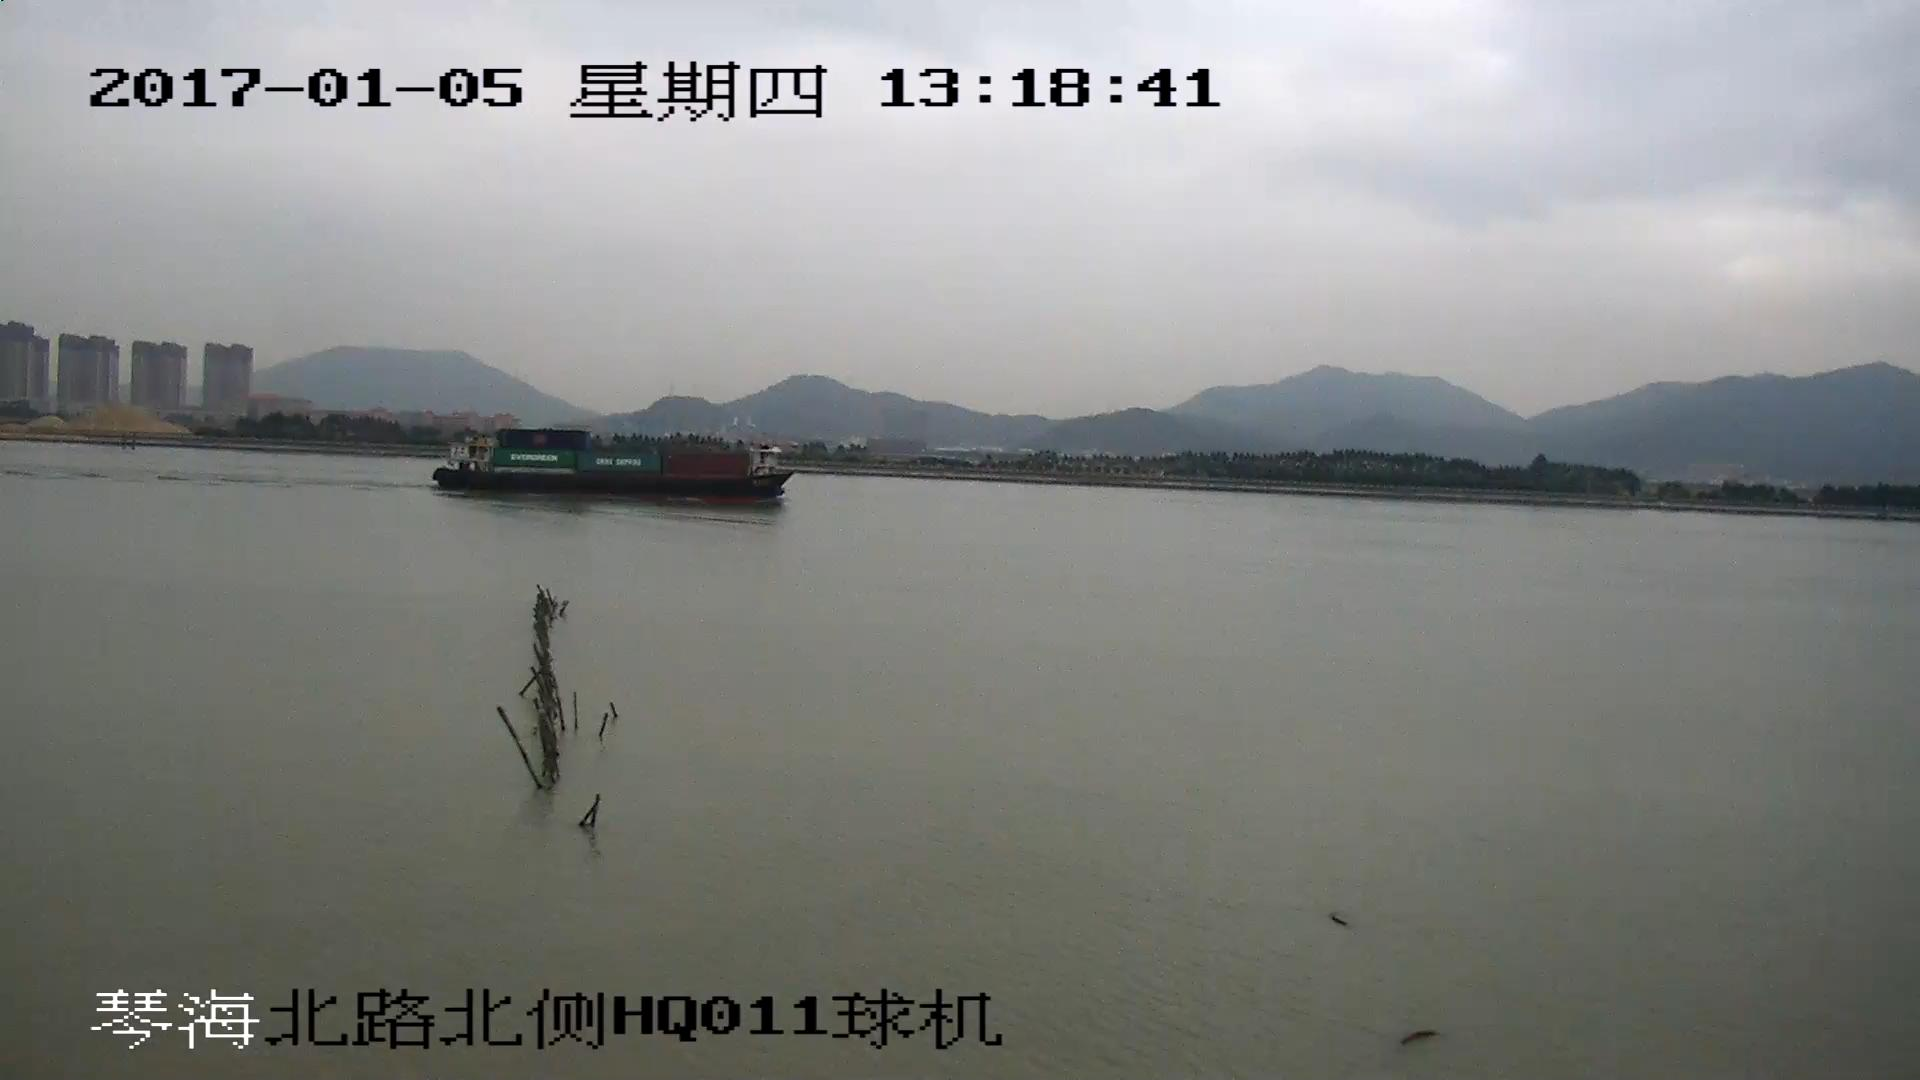container ship: (435, 427, 791, 507)
